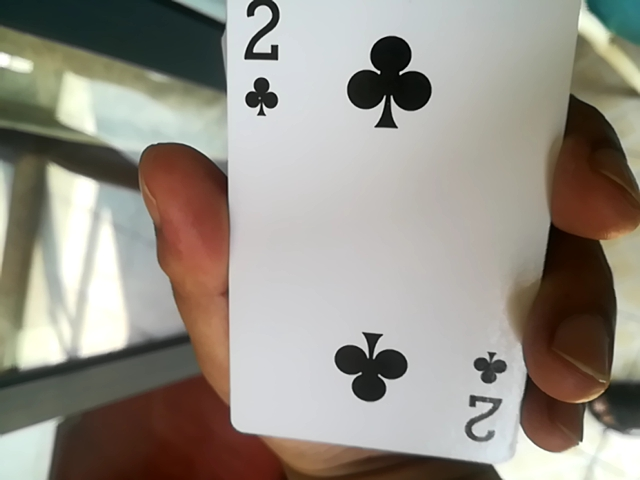mh 2: (205, 11, 572, 458)
